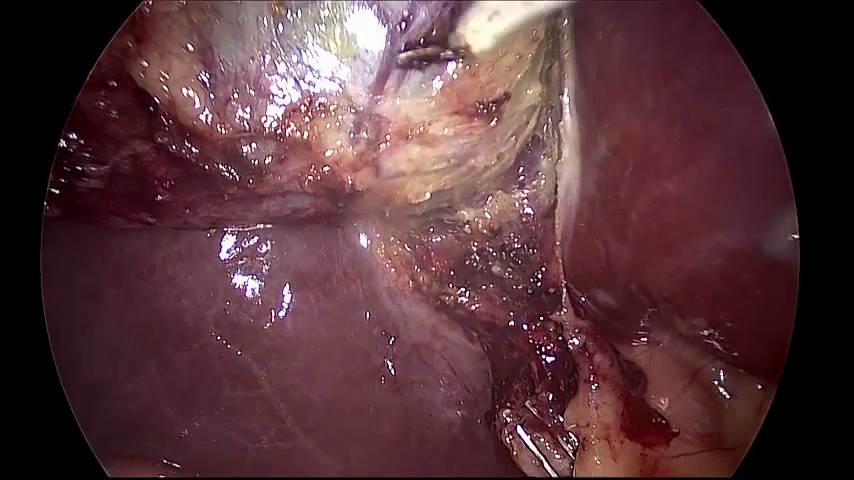lhook: (397, 1, 571, 72)
